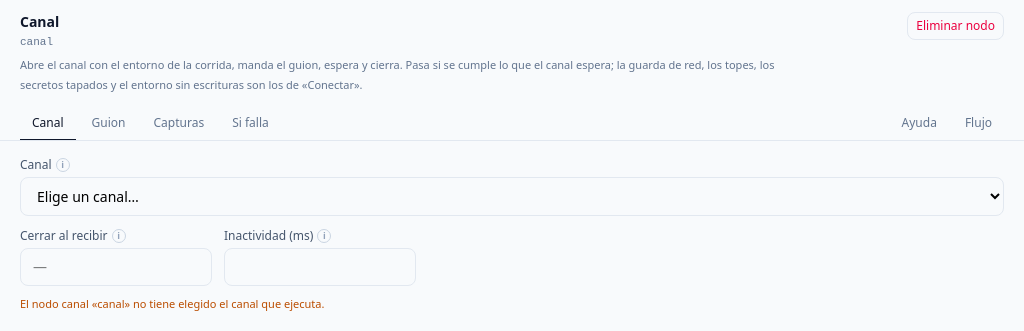
it: el inspector del nodo canal › elige el canal de la lista y dice cuándo cierra y qué espera
Expected: the list item "El nodo canal «canal» no tiene elegido el canal que ejecuta." is shown, [20, 296, 324, 310]
Step 1. Select "chat · WebSocket" in the dropdown named "Canal que ejecuta" → (512, 196), box [20, 176, 1004, 216]
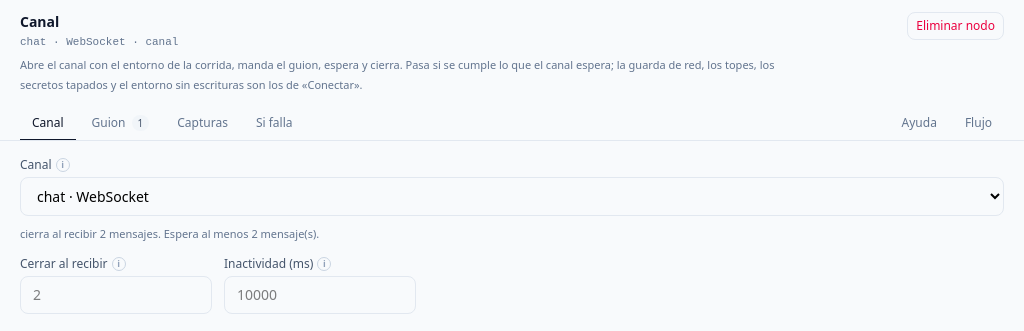
Expected: the text "cierra al recibir 2 mensajes. Espera al menos 2 mensaje(s)." is shown, [20, 226, 319, 240]
